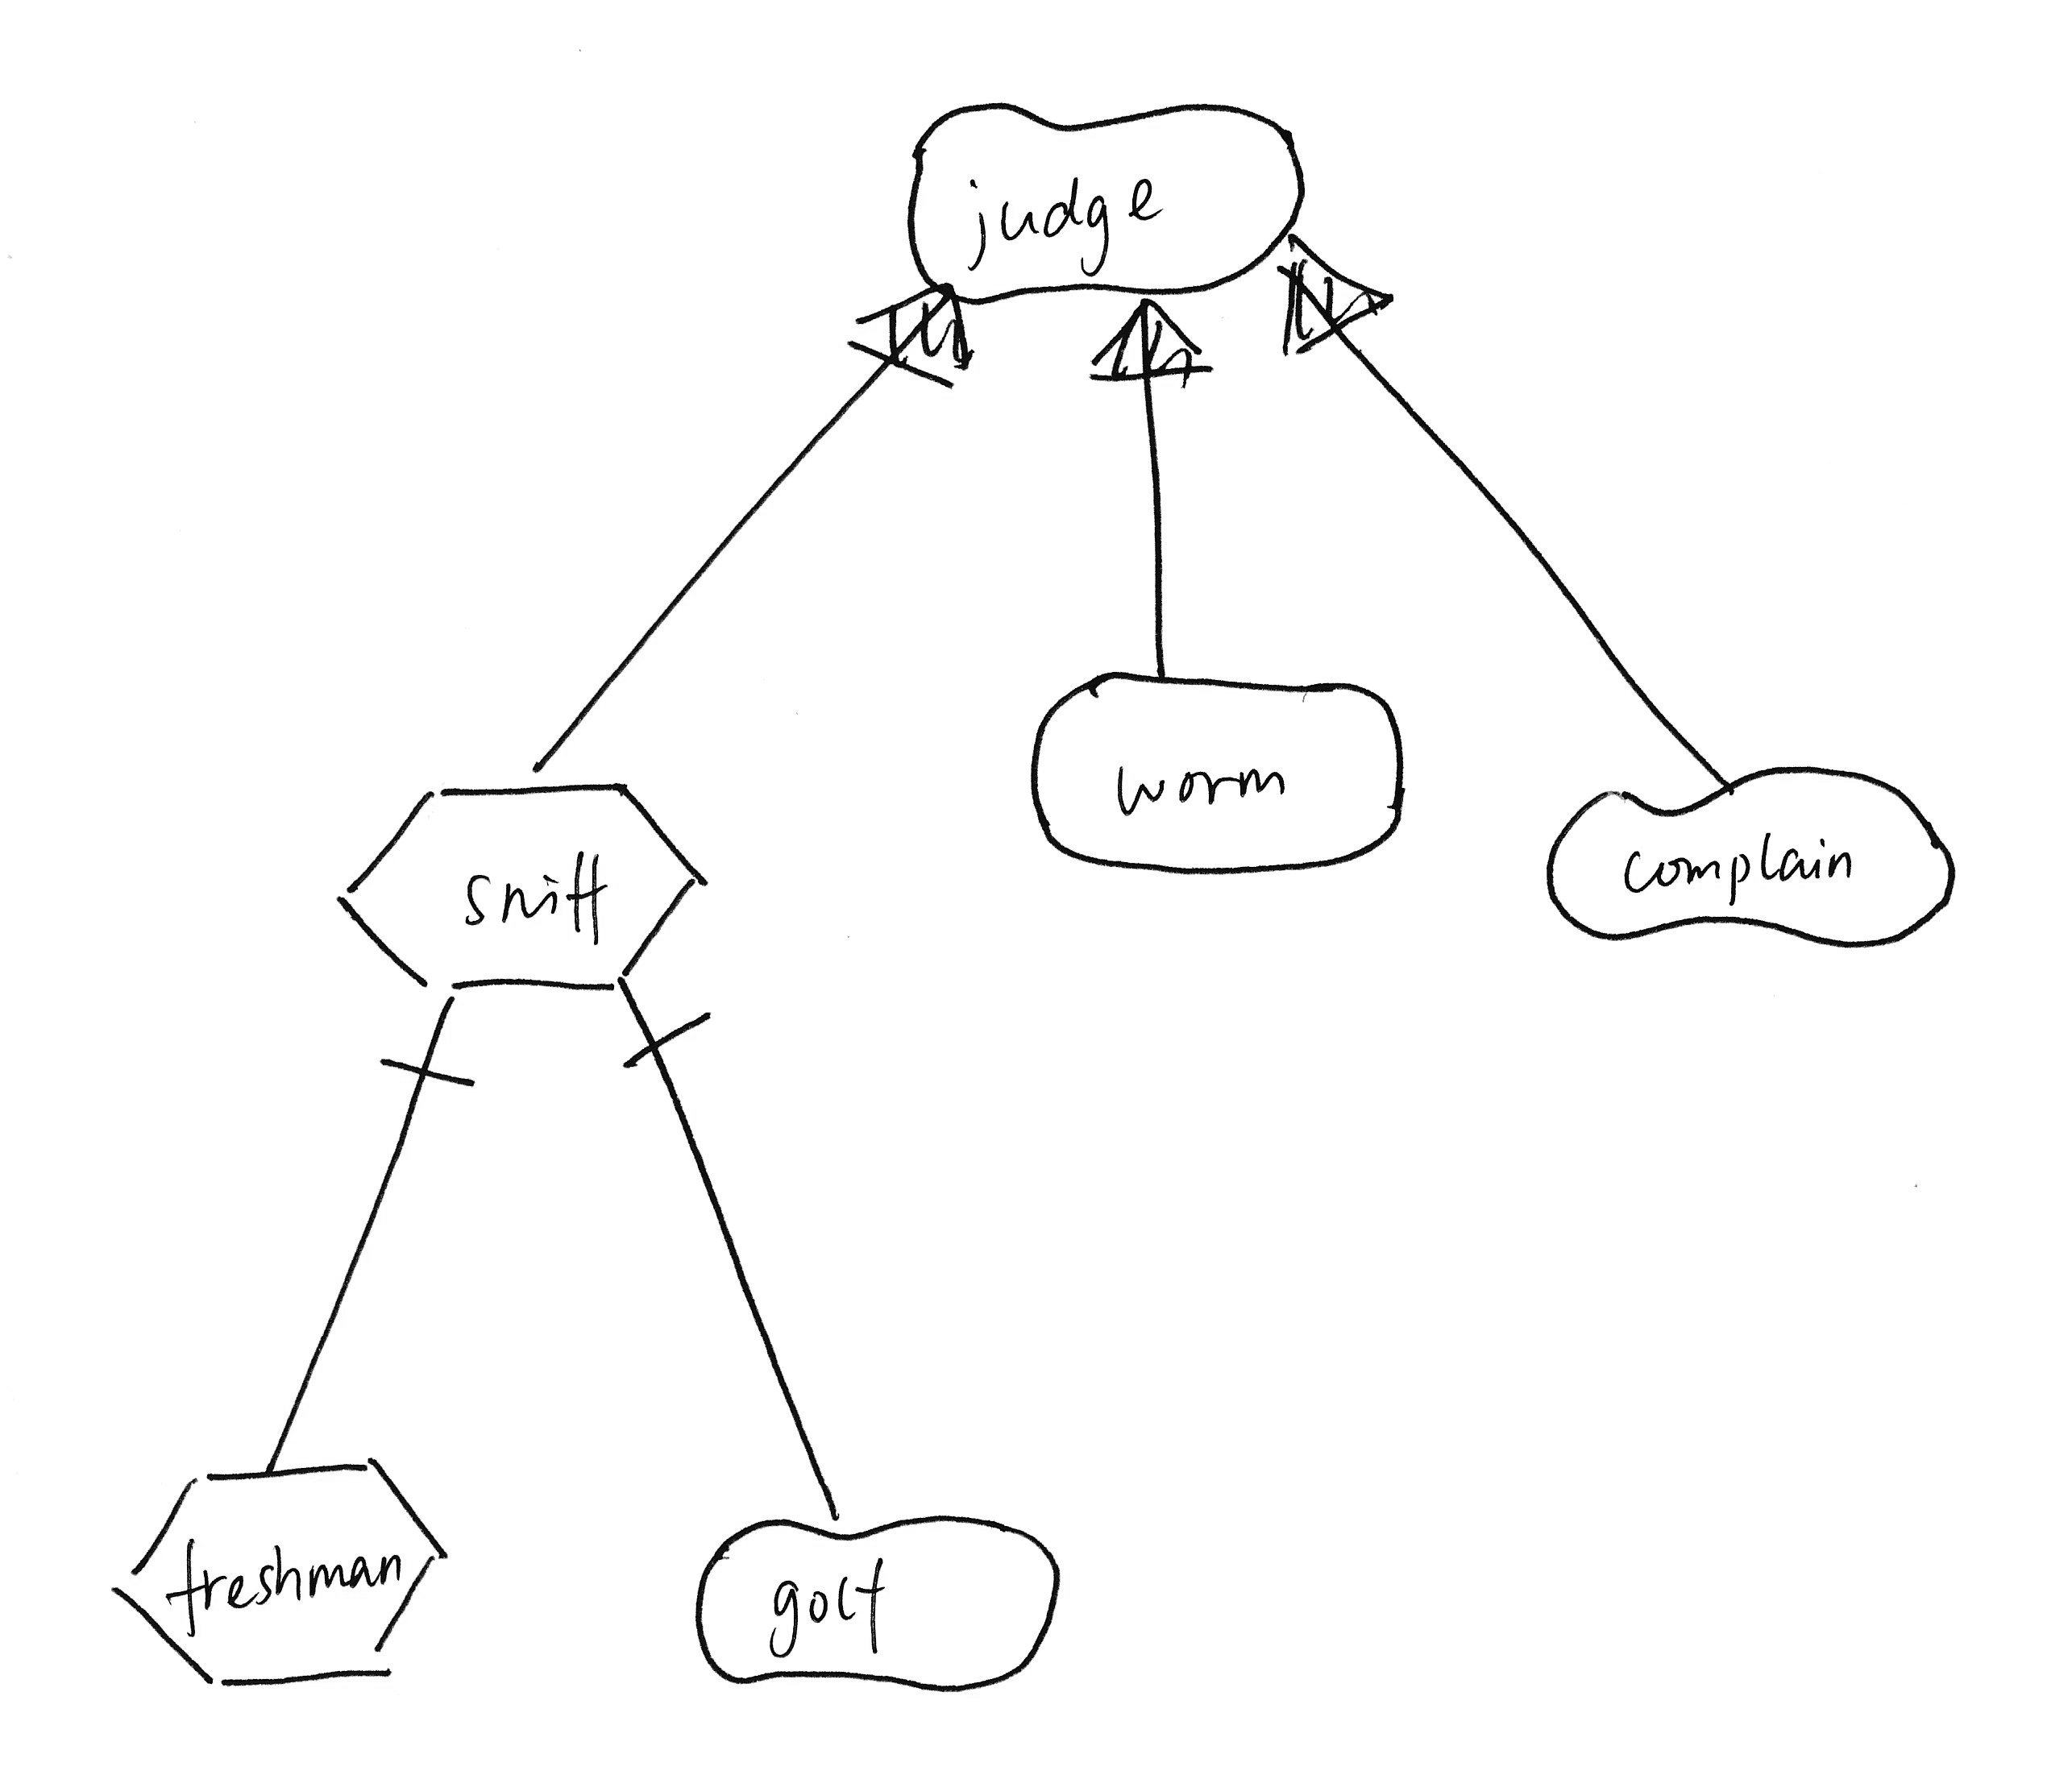and: (356, 1023, 493, 1118), (603, 999, 728, 1087)
or: (835, 264, 994, 407), (1262, 218, 1404, 366), (1071, 282, 1221, 395)
quality: (893, 79, 1313, 317), (1015, 652, 1425, 886), (1533, 754, 1973, 962), (680, 1495, 1071, 1707)
task: (319, 764, 728, 1002), (95, 1439, 465, 1700)
